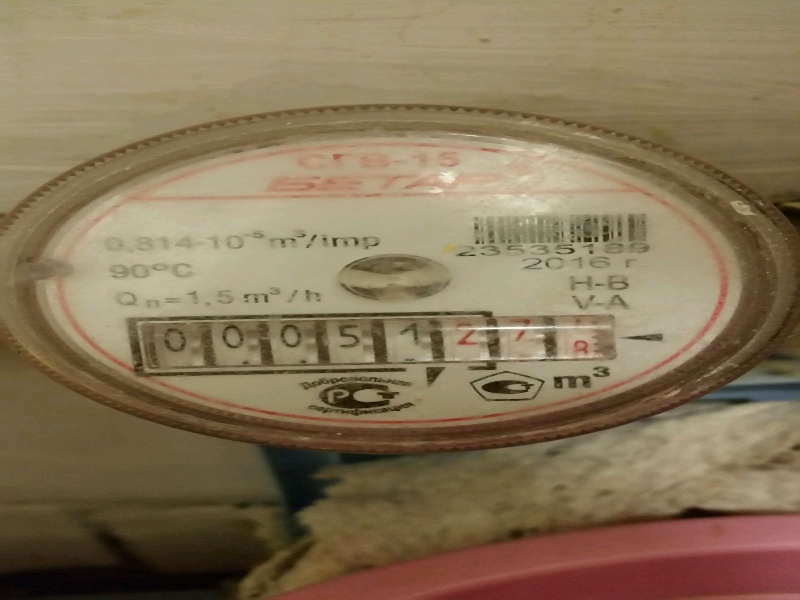meter: (123, 312, 602, 362)
